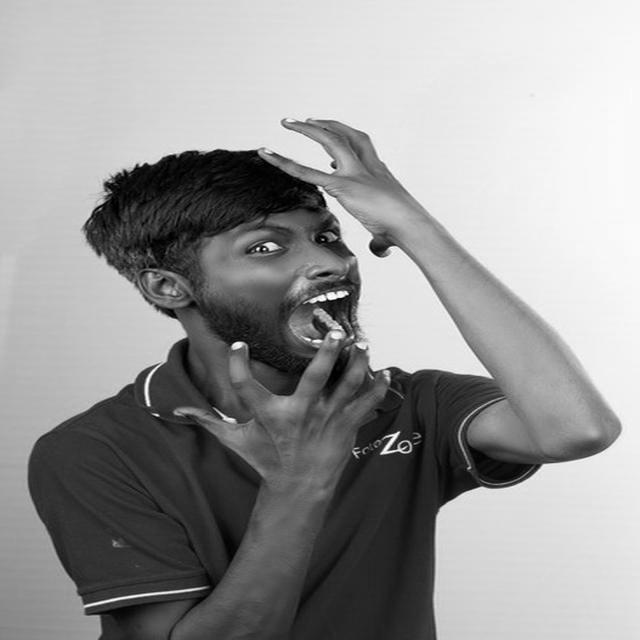Angry: (189, 181, 363, 383)
